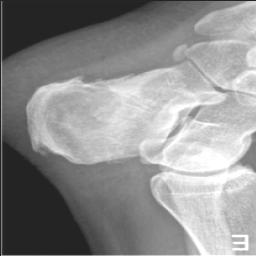cancer: (18, 69, 167, 165)
